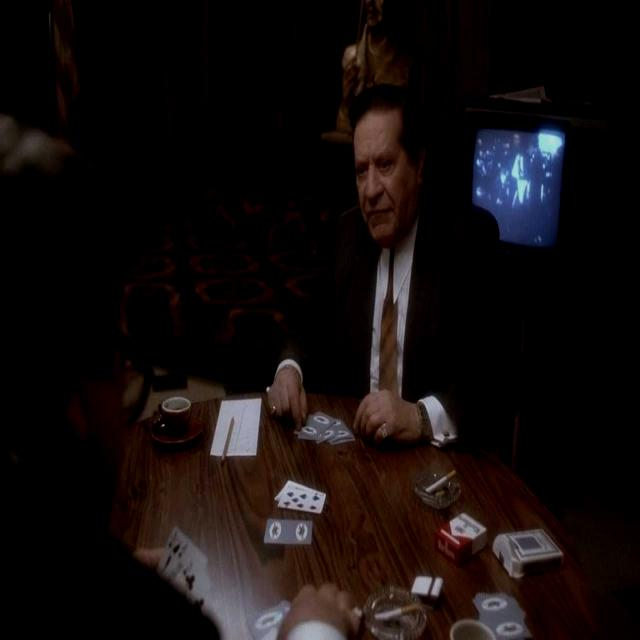Smooking: (422, 462, 464, 496)
